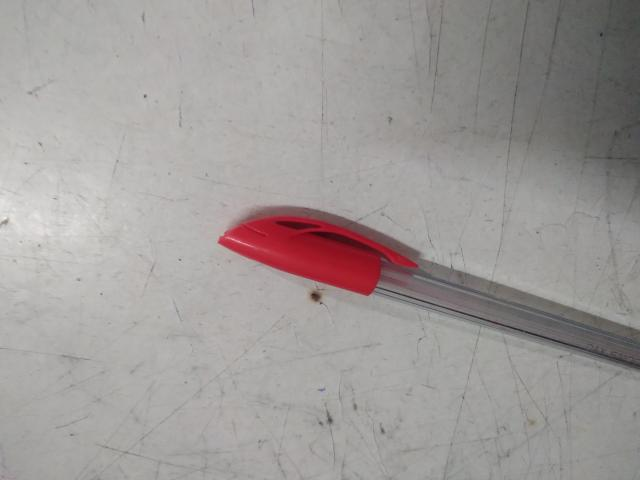PEN: (111, 214, 287, 480)
